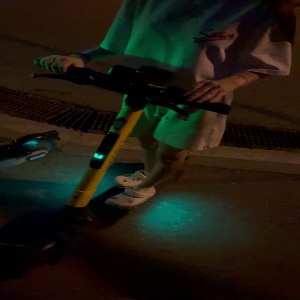human on a scooter: (23, 1, 292, 265)
